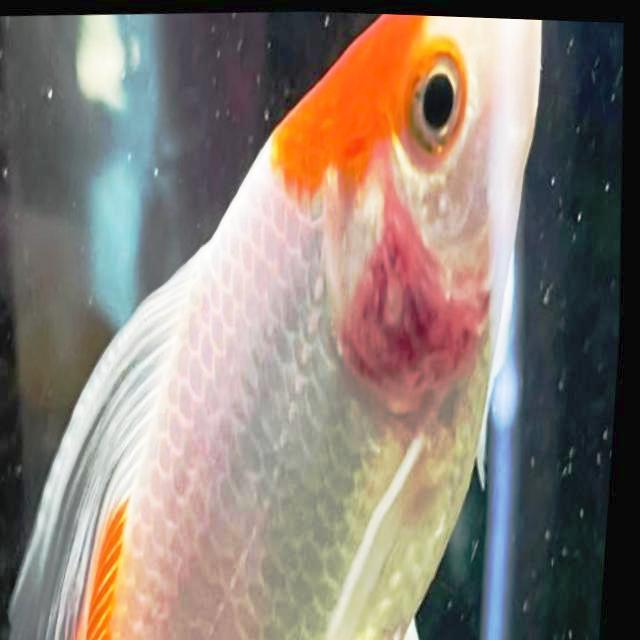Flavobacterium -Bacterial Gill Disease-: (13, 15, 540, 639), (13, 15, 540, 639), (13, 15, 540, 639), (13, 15, 540, 639)
